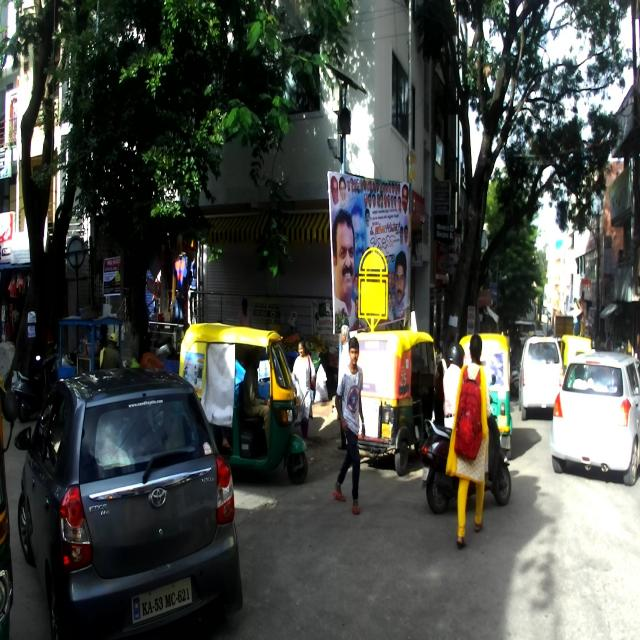autorickshaw: (178, 324, 308, 483)
car: (12, 366, 242, 640), (549, 352, 639, 485)
scooter: (421, 374, 511, 514)
